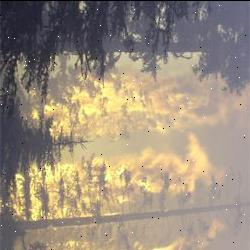fire: (4, 72, 228, 250)
